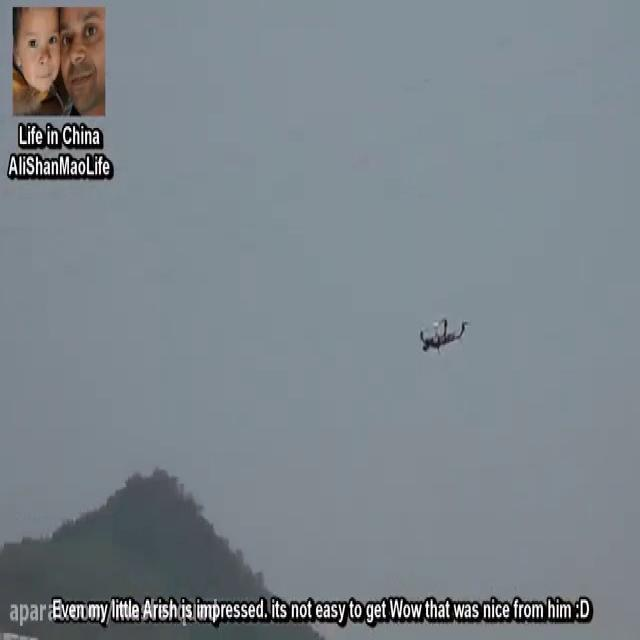drone: (417, 313, 469, 359)
